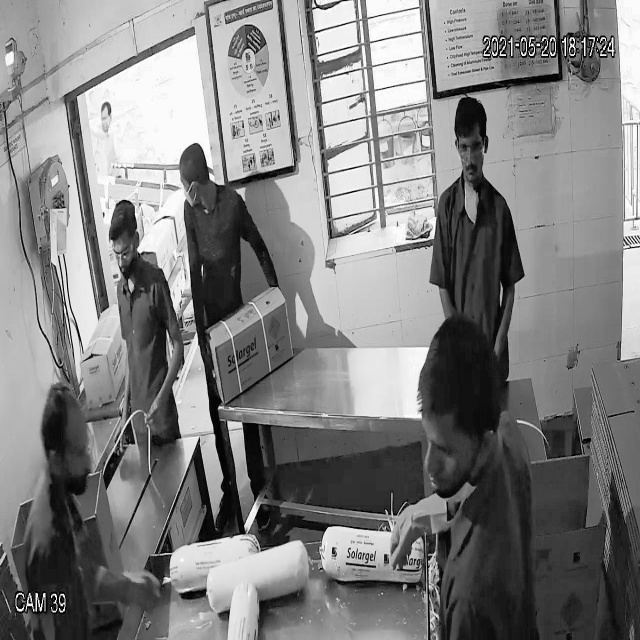Gafas: (452, 132, 490, 164), (111, 238, 136, 266)
Sin_gafas: (420, 426, 476, 468), (41, 436, 94, 470)
